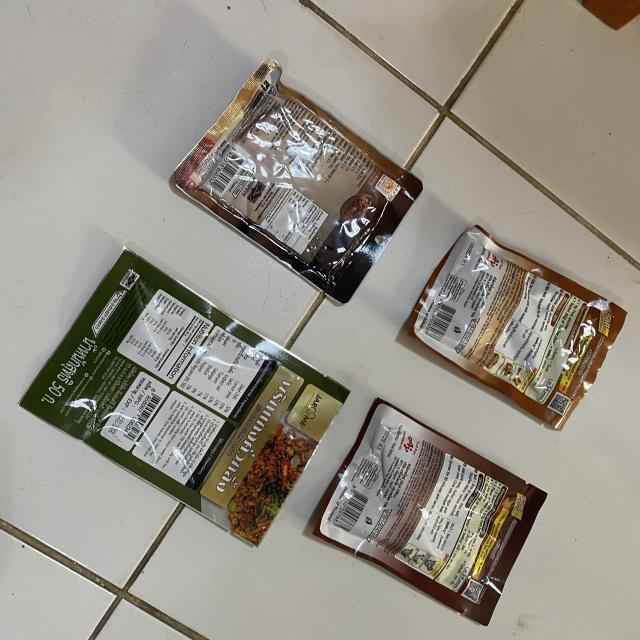plastik: (20, 249, 349, 545), (174, 59, 422, 302), (314, 399, 546, 625), (409, 225, 626, 430)
